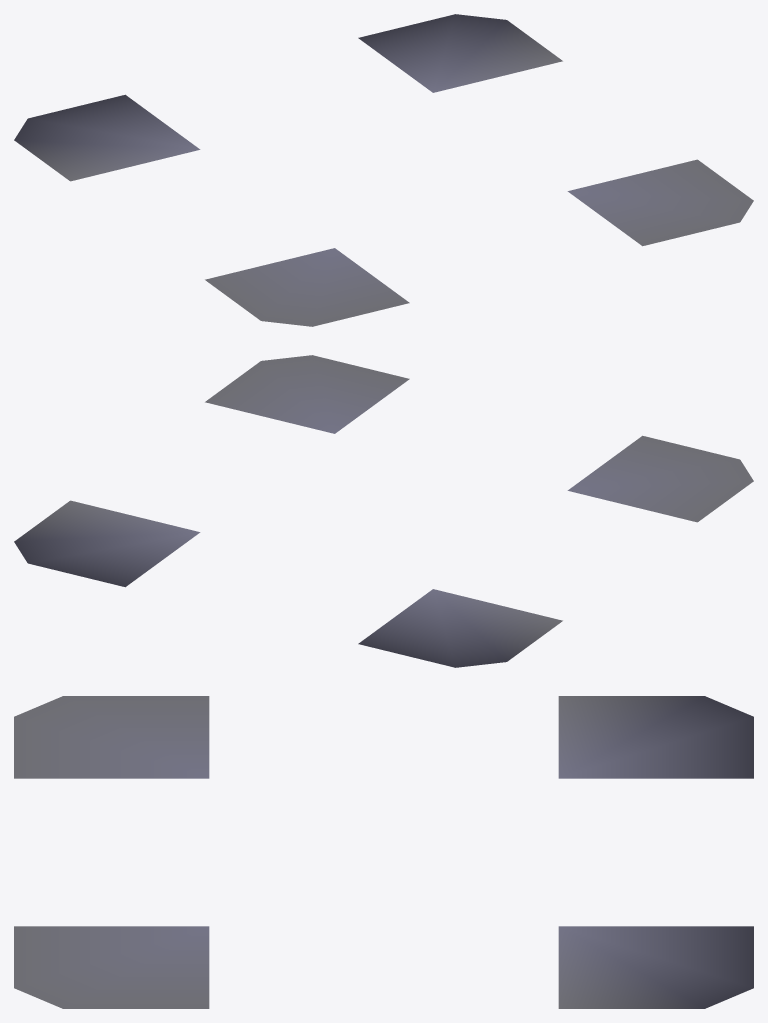
File: arena_cage.glb
3 renders of one model, top to bottom at view 1: azimuth 30°, elevation 25°; view 2: azimuth 150°, elevation 25°; view 3: azimuth 270°, elevation 25°, orthographic. The views are drawn at different scales.
Visible parts, largest first — view 1: 0x569_Arena_Cage_Match_Ring_Post_Polygon; view 2: 0x569_Arena_Cage_Match_Ring_Post_Polygon; view 3: 0x569_Arena_Cage_Match_Ring_Post_Polygon.
Boxes of the visible parts, bbox=[...] form: 0x569_Arena_Cage_Match_Ring_Post_Polygon: bbox=[14, 14, 753, 326]; 0x569_Arena_Cage_Match_Ring_Post_Polygon: bbox=[14, 355, 753, 667]; 0x569_Arena_Cage_Match_Ring_Post_Polygon: bbox=[14, 696, 753, 1008].
Bounding box in the file's own units: 7.42 × 0 × 7.42.
